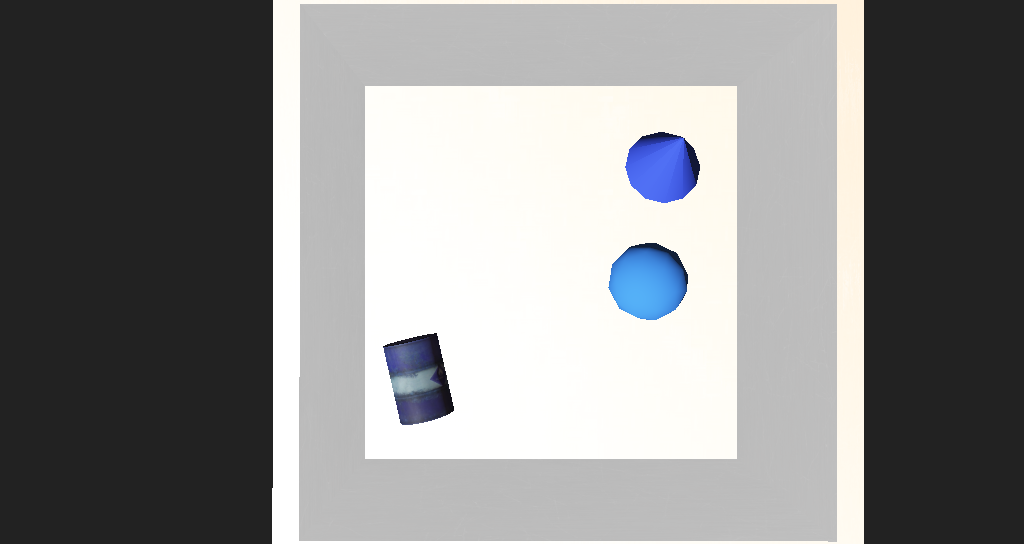cone: (364, 301, 431, 358)
cylinder: (569, 172, 643, 229)
sphere: (546, 248, 613, 296)
